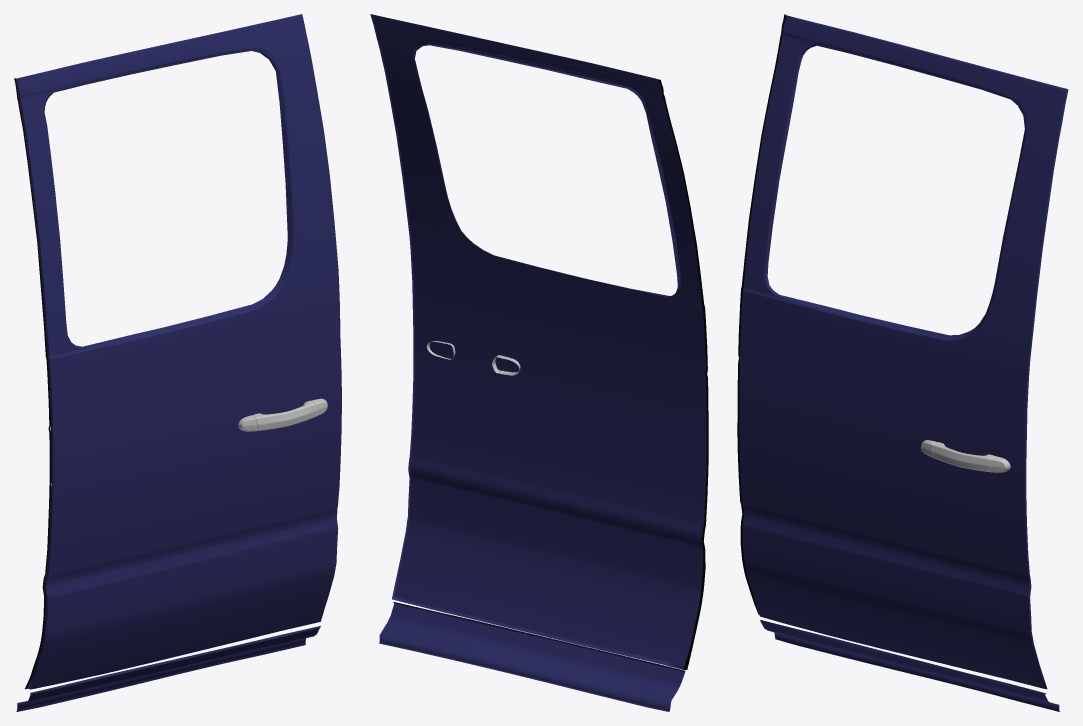
3 renders of one model, left to right at view 1: azimuth 30°, elevation 25°; view 2: azimuth 150°, elevation 25°; view 3: azimuth 330°, elevation 25°, orthographic. The views are drawn at different scales.
Visible parts, largest first — view 1: P615_5A_40EJ_R_1_DaS_P615_5A_40EJ_R, P615_5A_40EJ_R_1_DaS_P615_5A_40EJ_R_E, P615_5A_40EJ_R_P615_5A_40EJ_R_2_DaS, P615_5A_40EJ_R_P615_5A_40EJ_R_3_D; view 2: P615_5A_40EJ_R_1_DaS_P615_5A_40EJ_R, P615_5A_40EJ_R_1_DaS_P615_5A_40EJ_R_E, P615_5A_40EJ_R_P615_5A_40EJ_R_3_D; view 3: P615_5A_40EJ_R_1_DaS_P615_5A_40EJ_R, P615_5A_40EJ_R_1_DaS_P615_5A_40EJ_R_E, P615_5A_40EJ_R_P615_5A_40EJ_R_3_D, P615_5A_40EJ_R_P615_5A_40EJ_R_2_DaS.
Part boxes in pixels (x1,y1,x2,y2): P615_5A_40EJ_R_1_DaS_P615_5A_40EJ_R: (17,15,341,711); P615_5A_40EJ_R_1_DaS_P615_5A_40EJ_R_E: (16,14,341,711); P615_5A_40EJ_R_P615_5A_40EJ_R_2_DaS: (238,398,327,431); P615_5A_40EJ_R_P615_5A_40EJ_R_3_D: (14,78,51,689); P615_5A_40EJ_R_1_DaS_P615_5A_40EJ_R: (372,14,706,710); P615_5A_40EJ_R_1_DaS_P615_5A_40EJ_R_E: (370,14,706,711); P615_5A_40EJ_R_P615_5A_40EJ_R_3_D: (658,79,708,669); P615_5A_40EJ_R_1_DaS_P615_5A_40EJ_R: (739,17,1066,711); P615_5A_40EJ_R_1_DaS_P615_5A_40EJ_R_E: (760,15,1068,711); P615_5A_40EJ_R_P615_5A_40EJ_R_3_D: (737,14,786,614); P615_5A_40EJ_R_P615_5A_40EJ_R_2_DaS: (921,440,1010,472).
Bounding box in the file's own units: 82.12 × 167 × 23.35.
